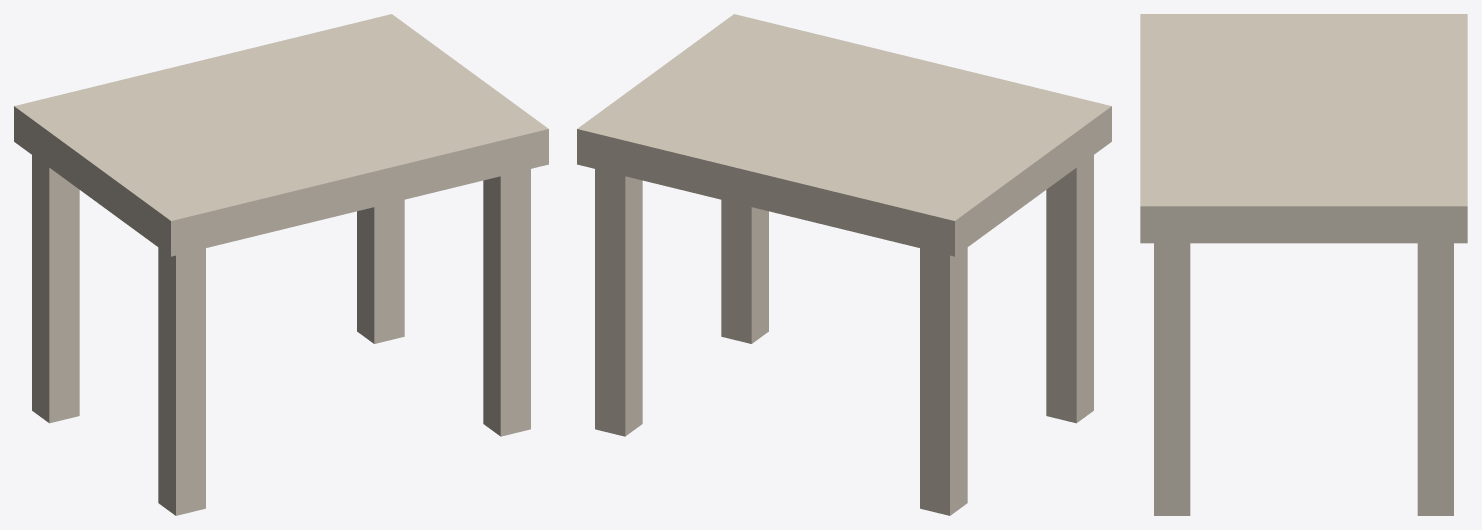
Rendered from table.glb.
The picture shows the model from 3 angles, left to right: view 1: azimuth 30°, elevation 25°; view 2: azimuth 150°, elevation 25°; view 3: azimuth 270°, elevation 25°; orthographic projection. The views are drawn at different scales.
Visible parts, largest first — view 1: table top, leg three, leg four, leg one, leg two; view 2: table top, leg one, leg two, leg three, leg four; view 3: table top, leg two, leg four.
Part boxes in pixels (x1,y1,x2,y2): table top: [14, 14, 548, 256]; leg three: [158, 247, 205, 515]; leg four: [483, 169, 530, 436]; leg one: [32, 155, 79, 423]; leg two: [357, 200, 404, 343]; table top: [577, 14, 1111, 256]; leg one: [920, 247, 967, 515]; leg two: [595, 169, 642, 436]; leg three: [1046, 155, 1093, 423]; leg four: [721, 200, 768, 343]; table top: [1140, 14, 1467, 243]; leg two: [1417, 243, 1453, 515]; leg four: [1154, 243, 1190, 515].
Size of the model in its own units: 1 by 0.765 by 0.72.
